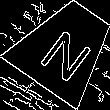N_NE: (33, 16, 97, 80)
